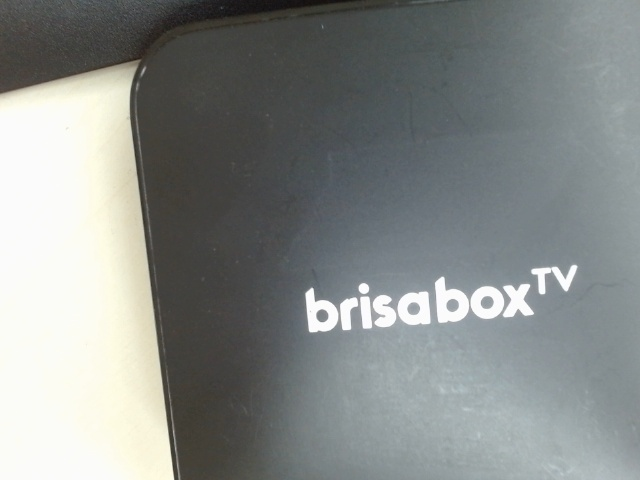AH_brisabox: (296, 262, 583, 340)
